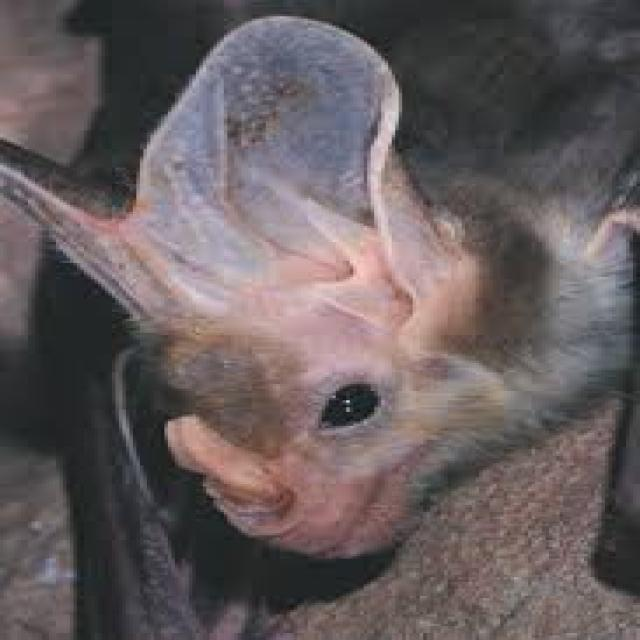Bat: (2, 14, 640, 640)
